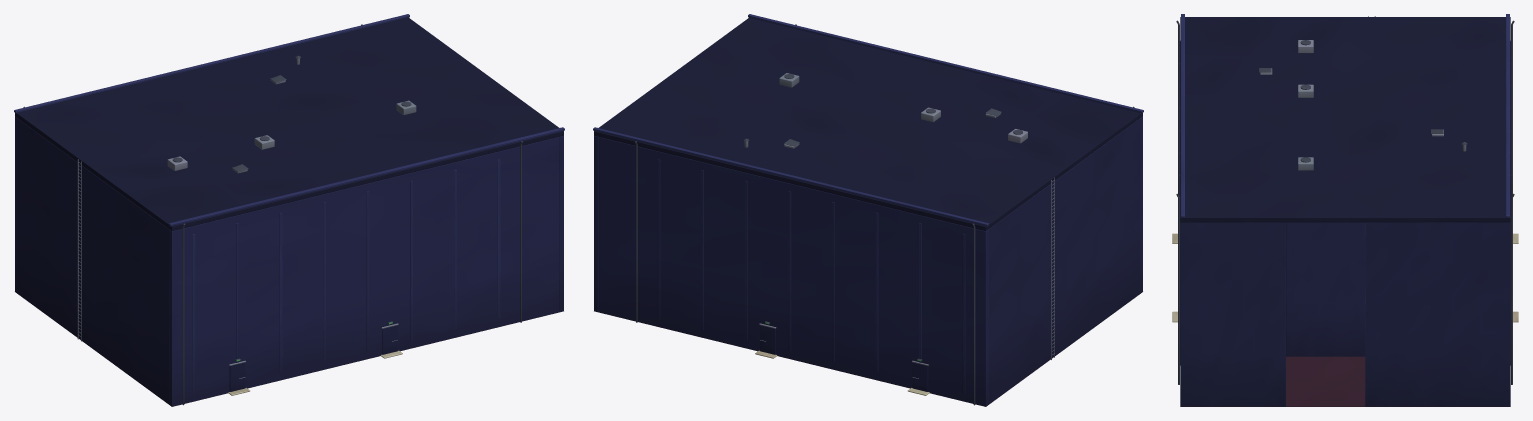
Rendered from SM_Cinema_Shell.fbx.
3 views of the same model, side by side, from view 1: azimuth 30°, elevation 25°; view 2: azimuth 150°, elevation 25°; view 3: azimuth 270°, elevation 25° (orthographic). The views are drawn at different scales.
Visible parts, largest first — view 1: SM_Cinema_Shell; view 2: SM_Cinema_Shell; view 3: SM_Cinema_Shell.
Part boxes in pixels (x1,y1,x2,y2): SM_Cinema_Shell: (14, 14, 564, 406); SM_Cinema_Shell: (593, 14, 1143, 406); SM_Cinema_Shell: (1172, 14, 1518, 406).
Bounding box in the file's own units: 3623 × 1654 × 2620.
